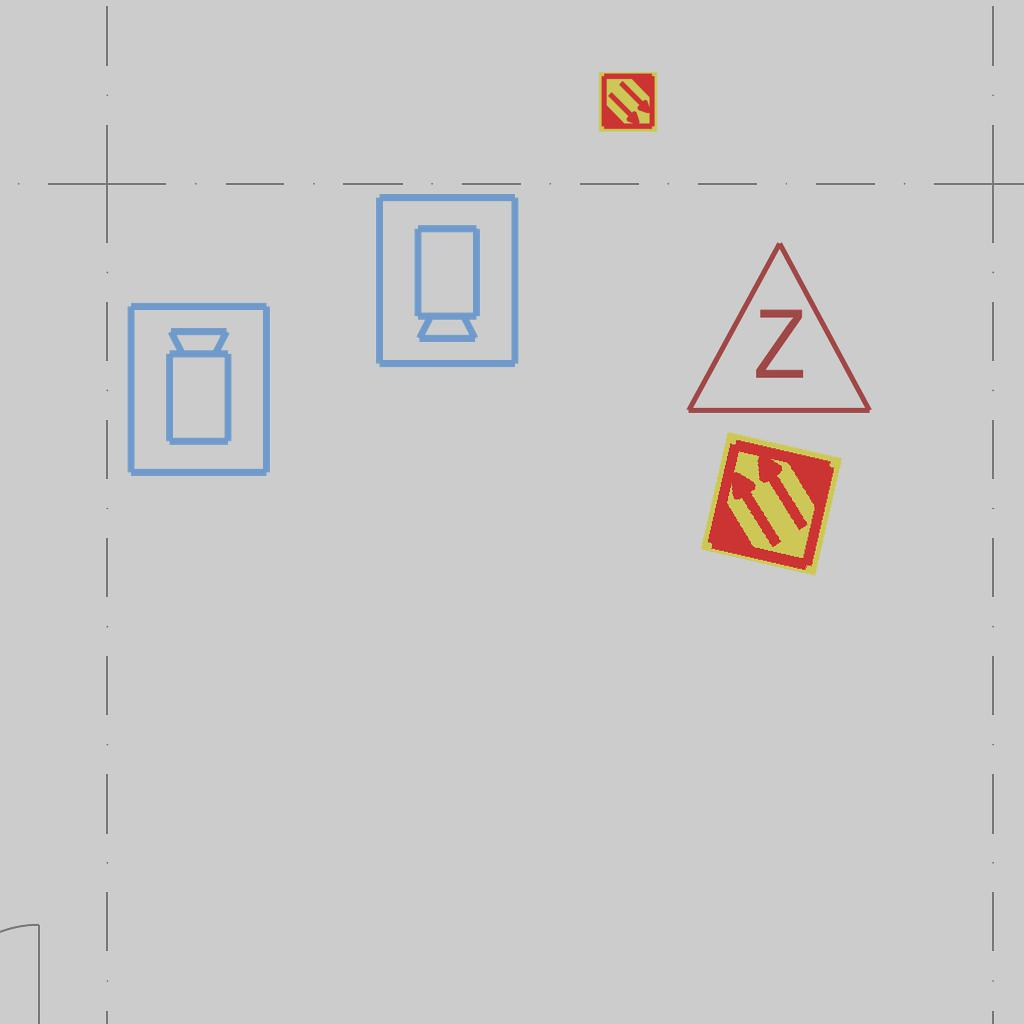ASR_Ansaugrauchmelder: (696, 428, 847, 579), (597, 71, 659, 133)
KFO_Kamera_mit_Festobjektiv: (369, 189, 523, 371), (123, 299, 277, 481)
Zimmersignalleuchte: (679, 228, 875, 428)
